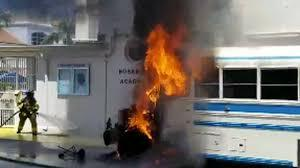fire: (148, 30, 187, 91), (126, 113, 155, 135)
